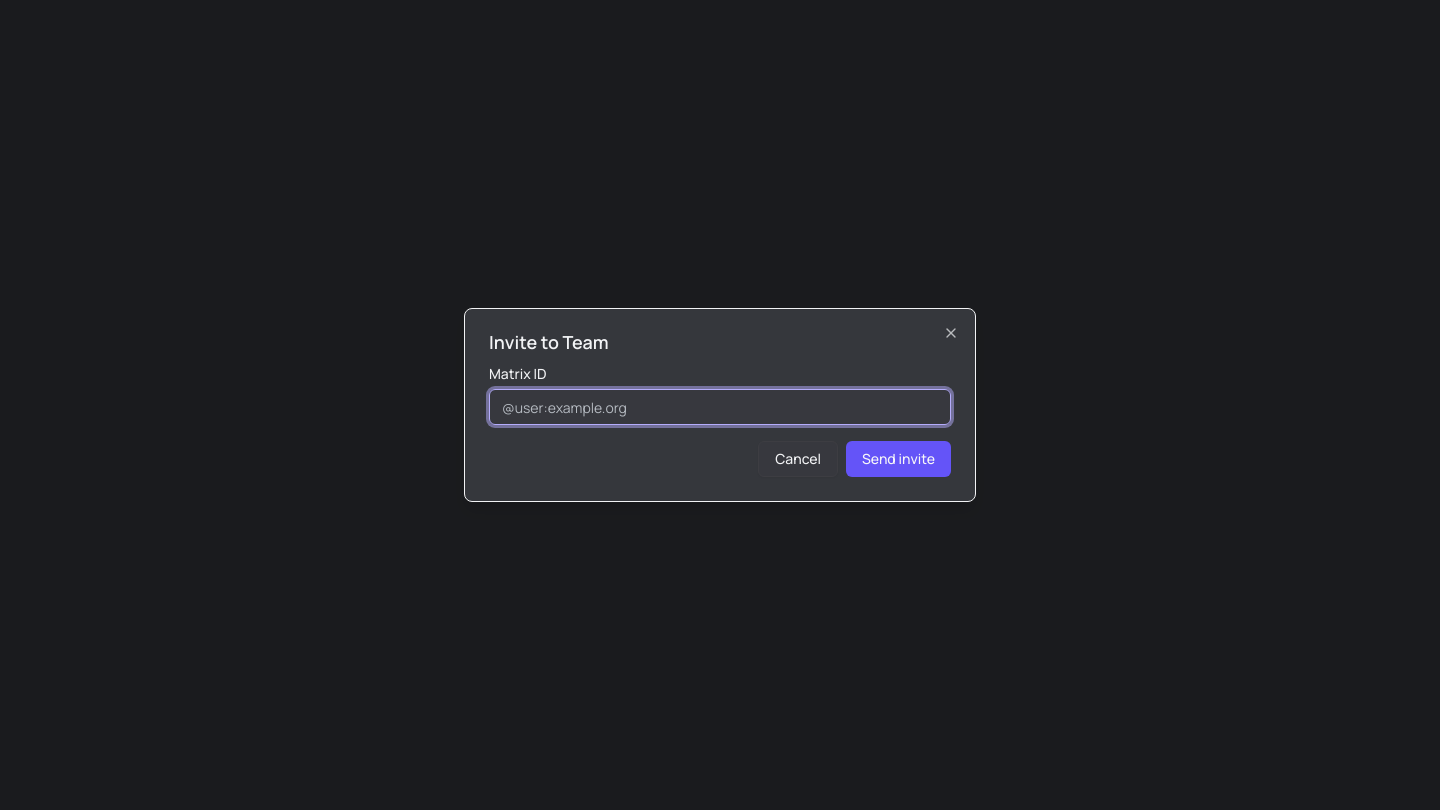
InviteToSpaceDialog › shows an error and keeps the dialog open on failure
The width and height of the screenshot is (1440, 810).
In the field labelled "Matrix ID": (720,407) [489,389,951,425], type "@bob:example.org"
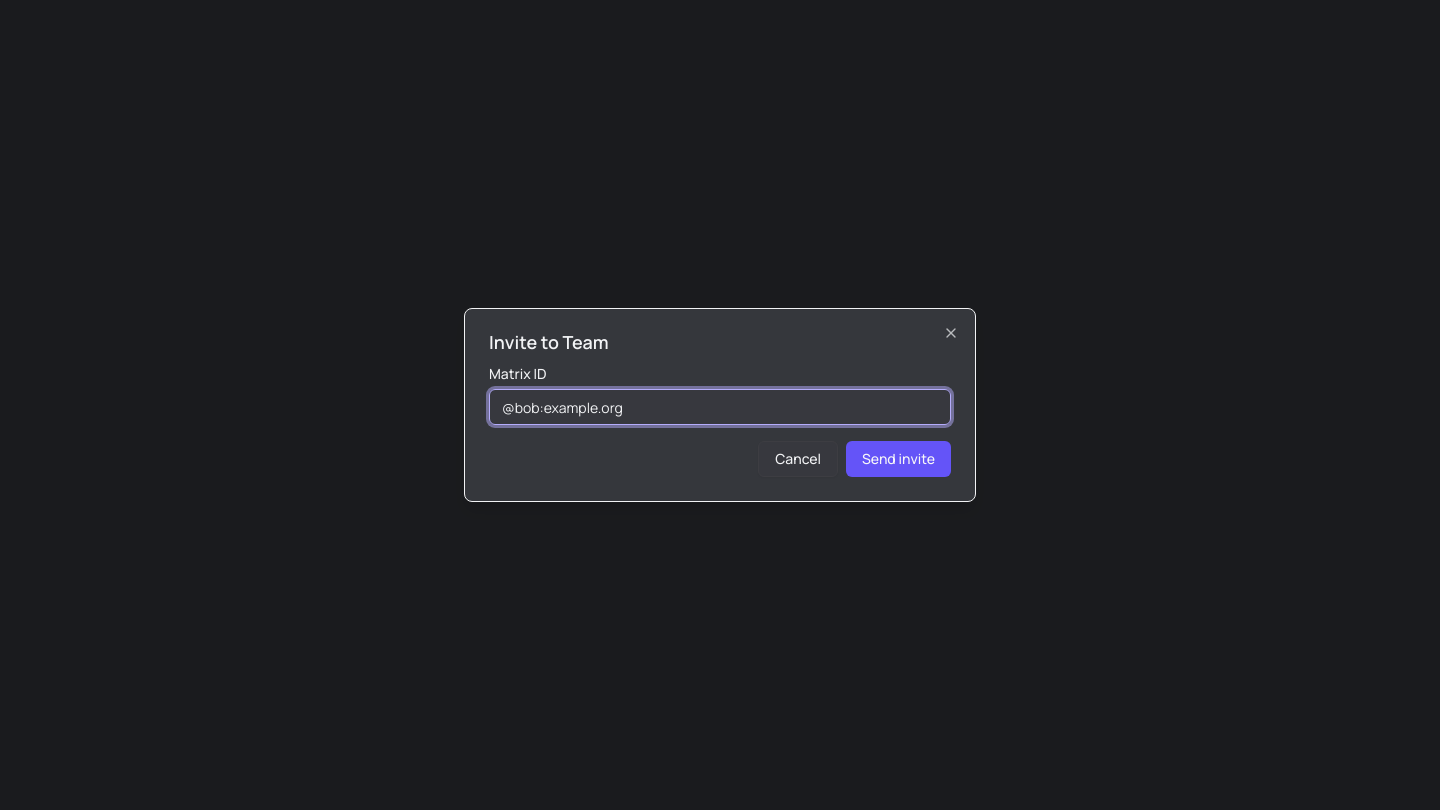
Click the button "Send invite": (898,459) [846,441,951,477]
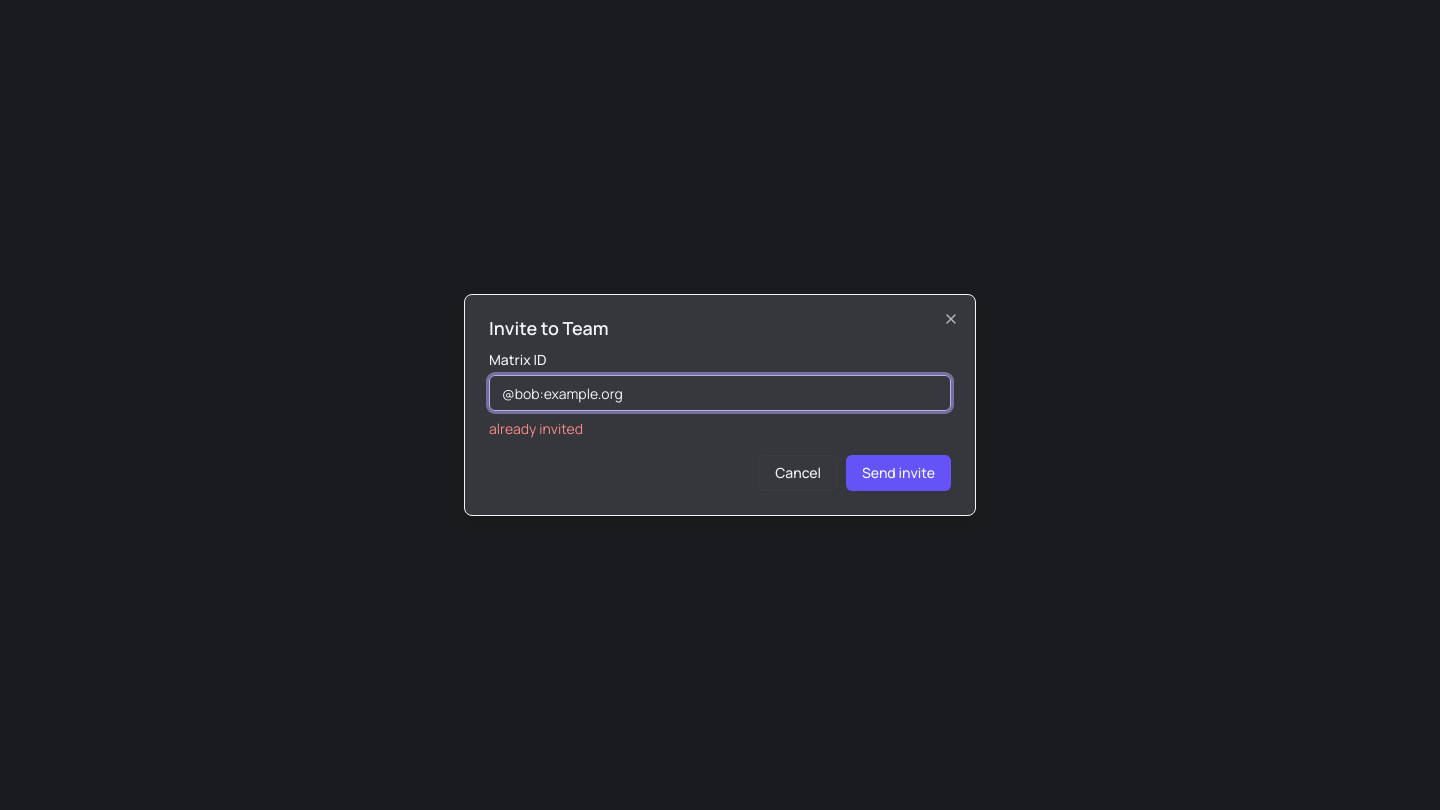
expect the message reads "already invited": met, box [489,419,583,438]
